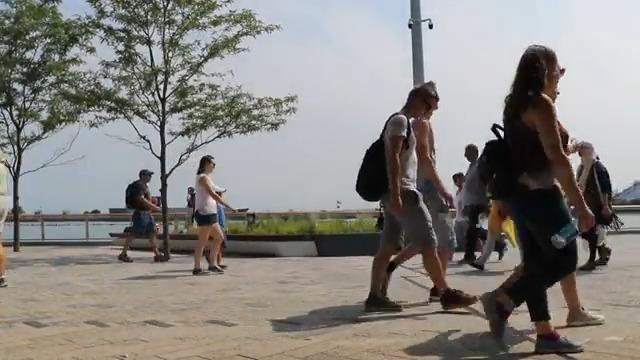no-helmet: (508, 45, 565, 97), (399, 84, 438, 121), (197, 155, 216, 175), (139, 169, 154, 183)
